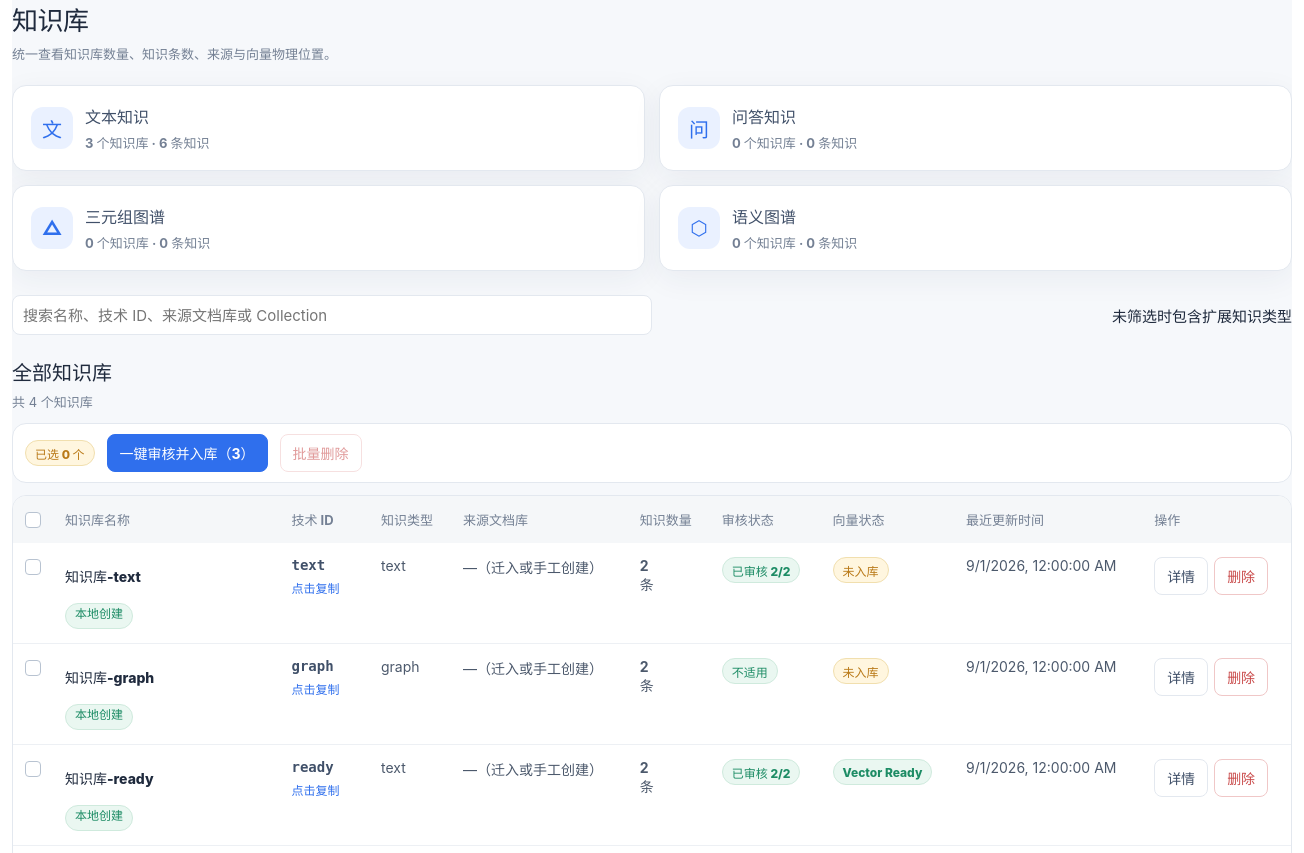
Scenario: publishes every eligible non-ready library in the current filter and reports independent outcomes
Click the button with class "batch-publish-button".
click(187, 453)  # box [107,434,268,472]
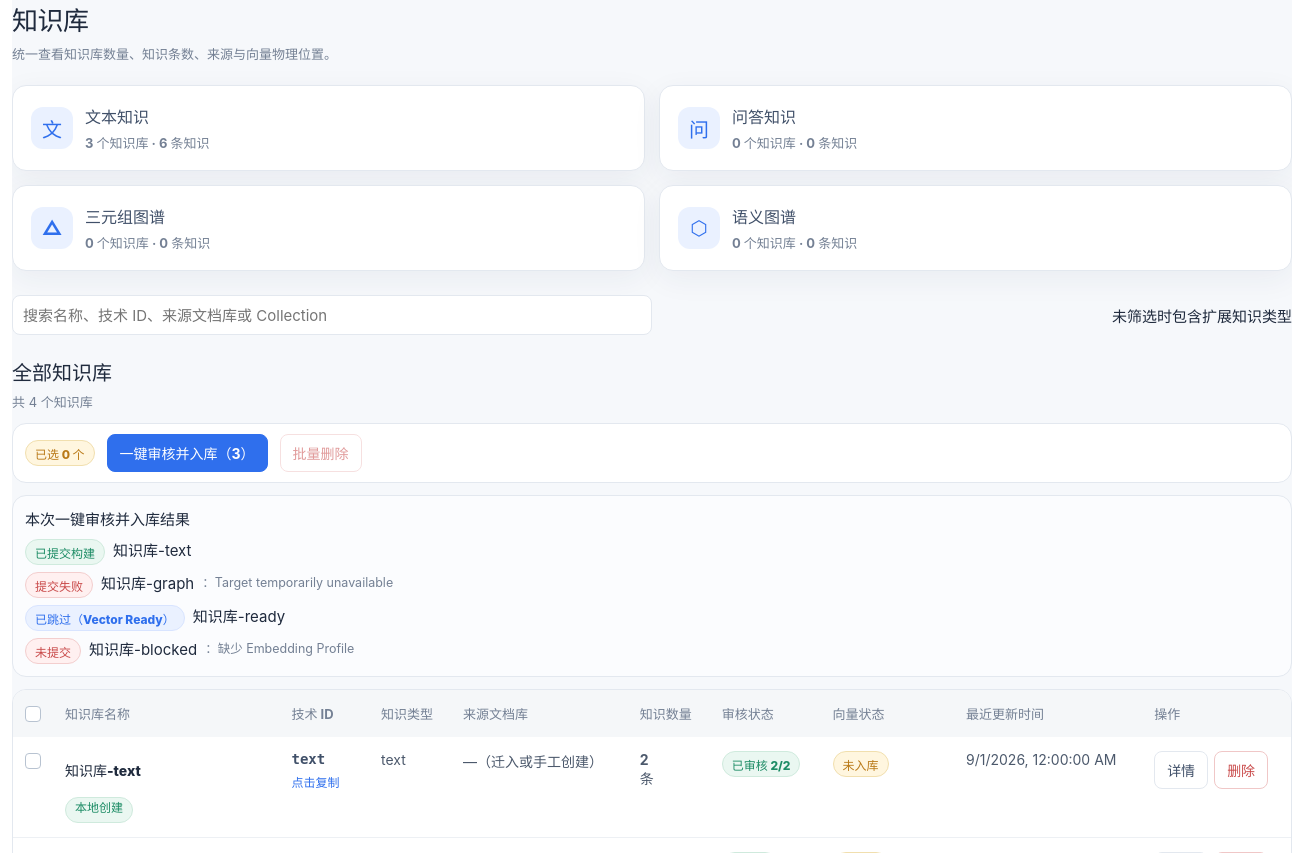
Expected: the text "已提交构建" is shown, [25,539,105,565]
Expected: the text "已跳过（Vector Ready）" is shown, [25,605,185,631]
Expected: the text "提交失败" is shown, [25,572,93,598]
